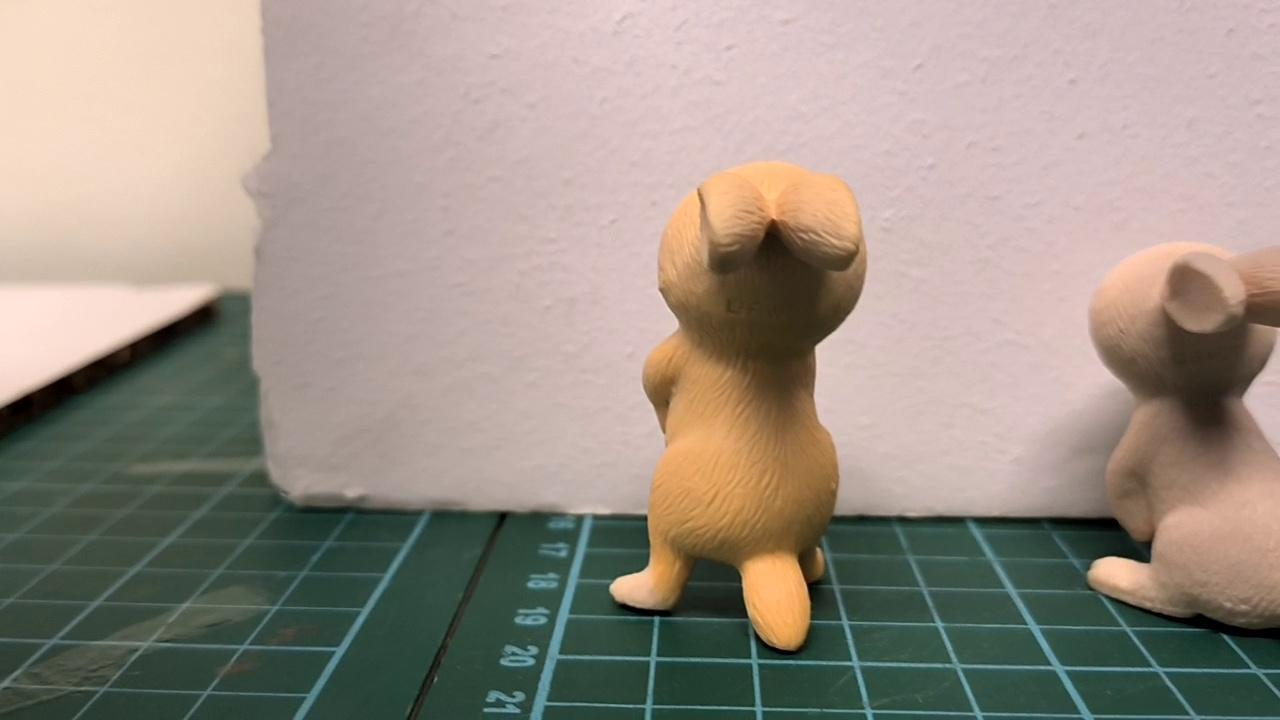pet: (610, 158, 868, 651), (1088, 238, 1280, 631)
